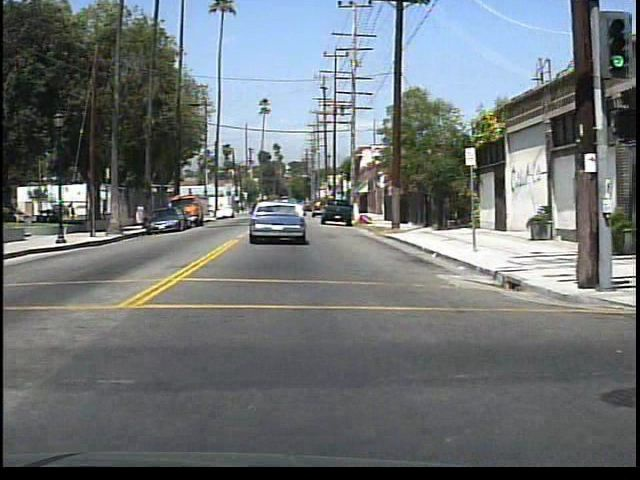person: (136, 201, 149, 229), (98, 196, 112, 221), (66, 198, 79, 223)
